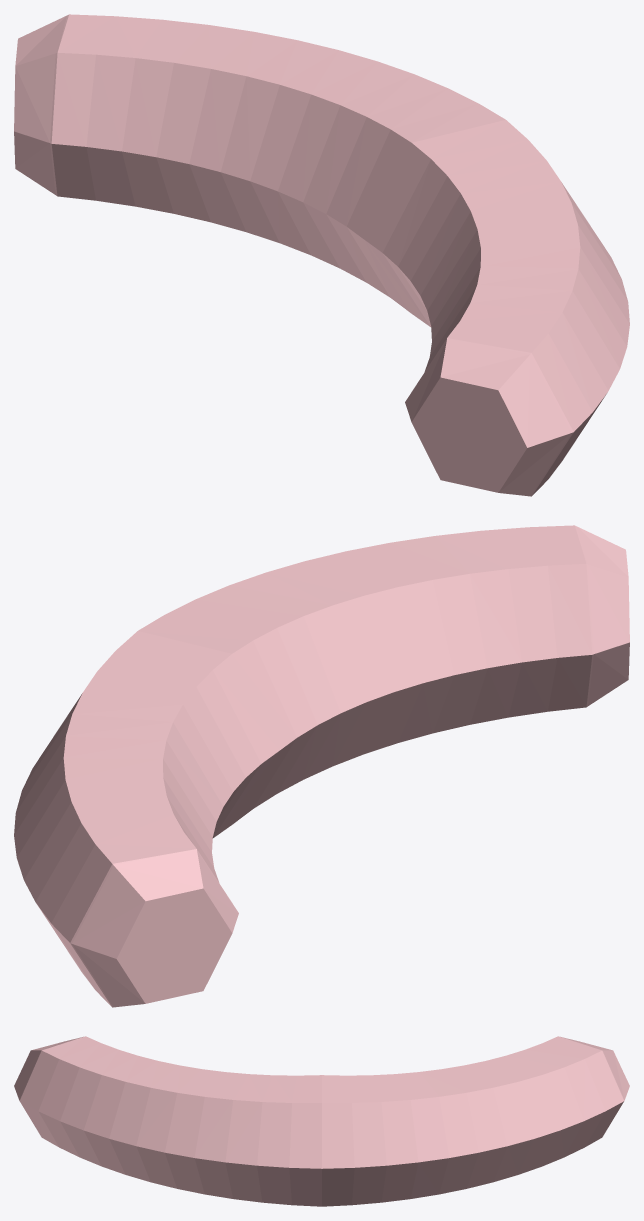
The picture shows the model from 3 angles, top to bottom: view 1: azimuth 30°, elevation 25°; view 2: azimuth 150°, elevation 25°; view 3: azimuth 270°, elevation 25°; orthographic projection. The views are drawn at different scales.
Parts seen in each view (by area): view 1: meatSausage_1; view 2: meatSausage_1; view 3: meatSausage_1.
Part boxes in pixels (box(x1,y1,x2,y2)): meatSausage_1: box(14, 14, 629, 496); meatSausage_1: box(14, 525, 629, 1007); meatSausage_1: box(14, 1036, 629, 1206).
Size of the model in its own units: 0.1515 by 0.0727 by 0.3916.
